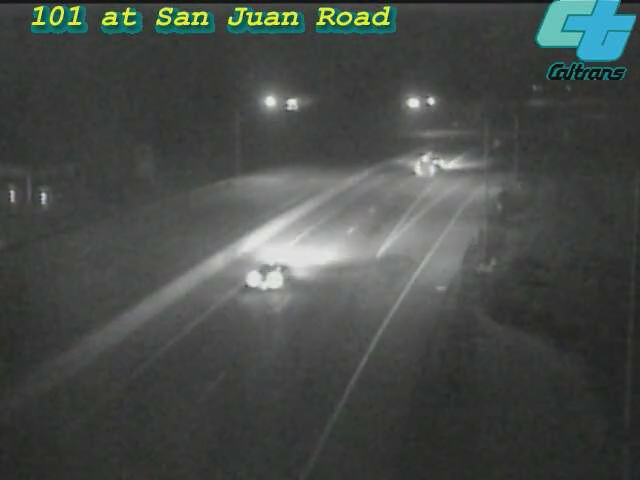vehicle: (389, 124, 469, 204), (234, 229, 314, 309)
